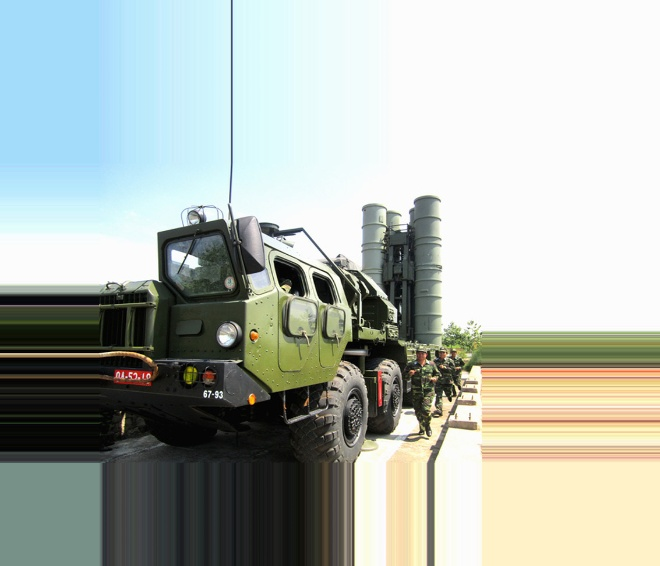plate: (115, 370, 155, 391)
